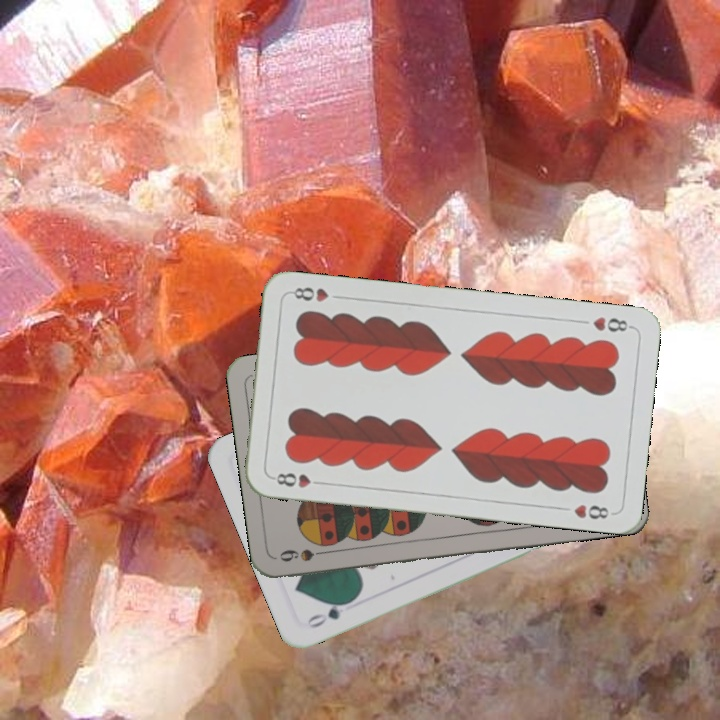GO: (302, 595, 356, 631)
H8: (268, 469, 327, 490), (589, 313, 635, 334)
S9: (275, 545, 335, 565)
